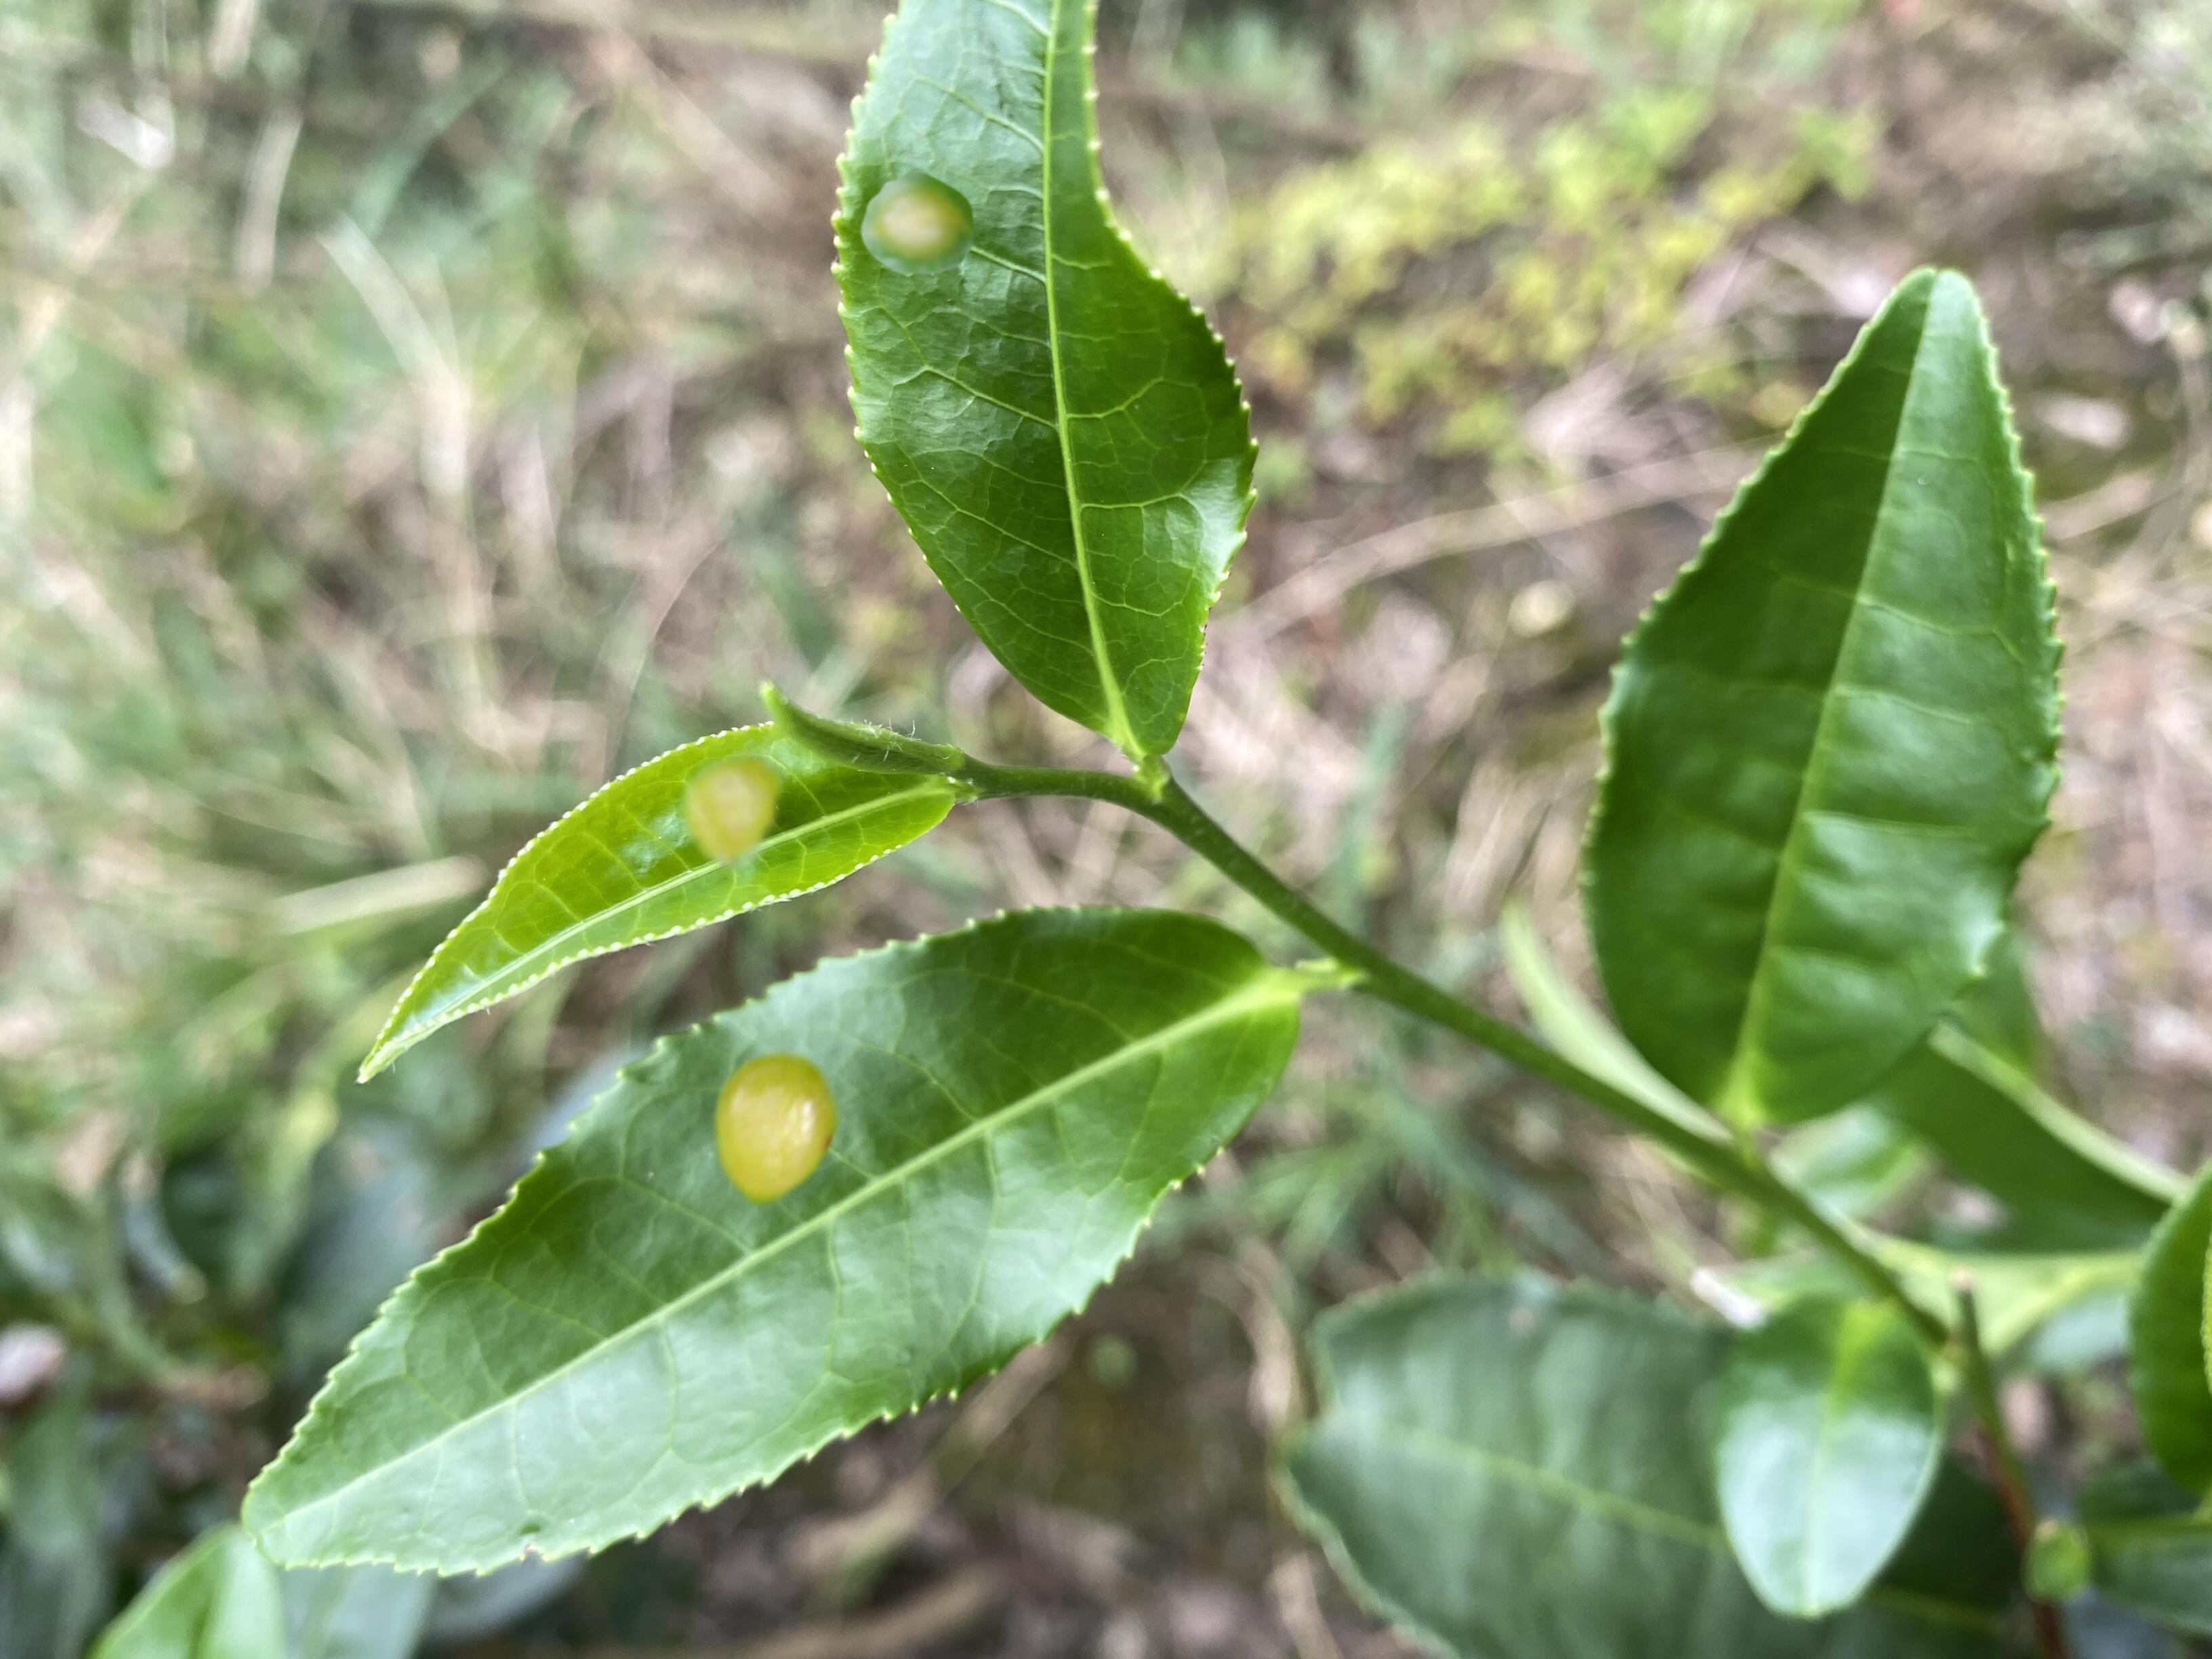chabing_low: (237, 904, 1299, 1582), (829, 3, 1261, 769), (355, 718, 960, 1086)
healthy: (1581, 261, 2066, 1138)
